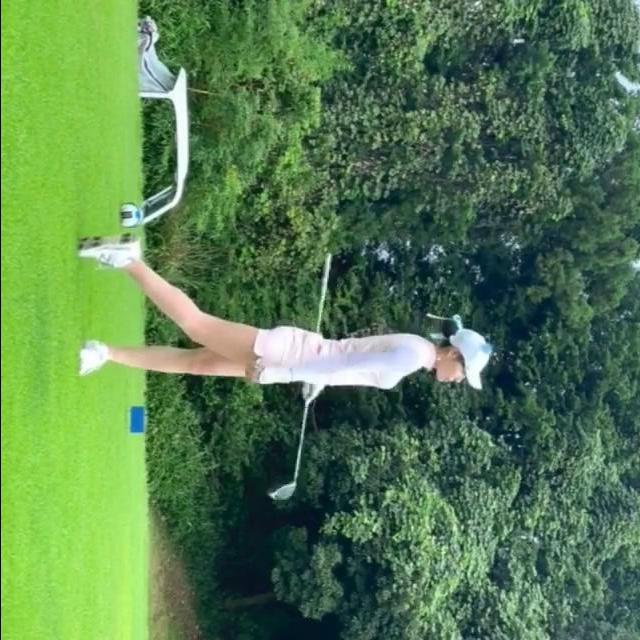ClubHandle: (265, 253, 331, 499)
ClubHead: (270, 482, 293, 499)
